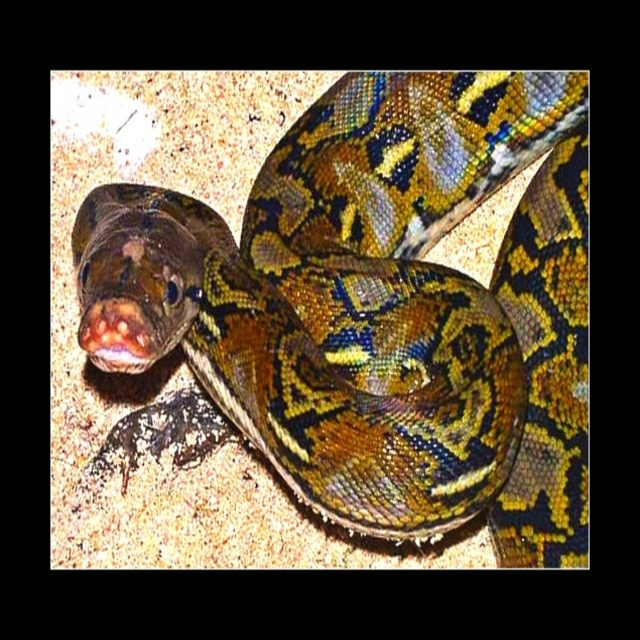Snake: (78, 70, 593, 565)
